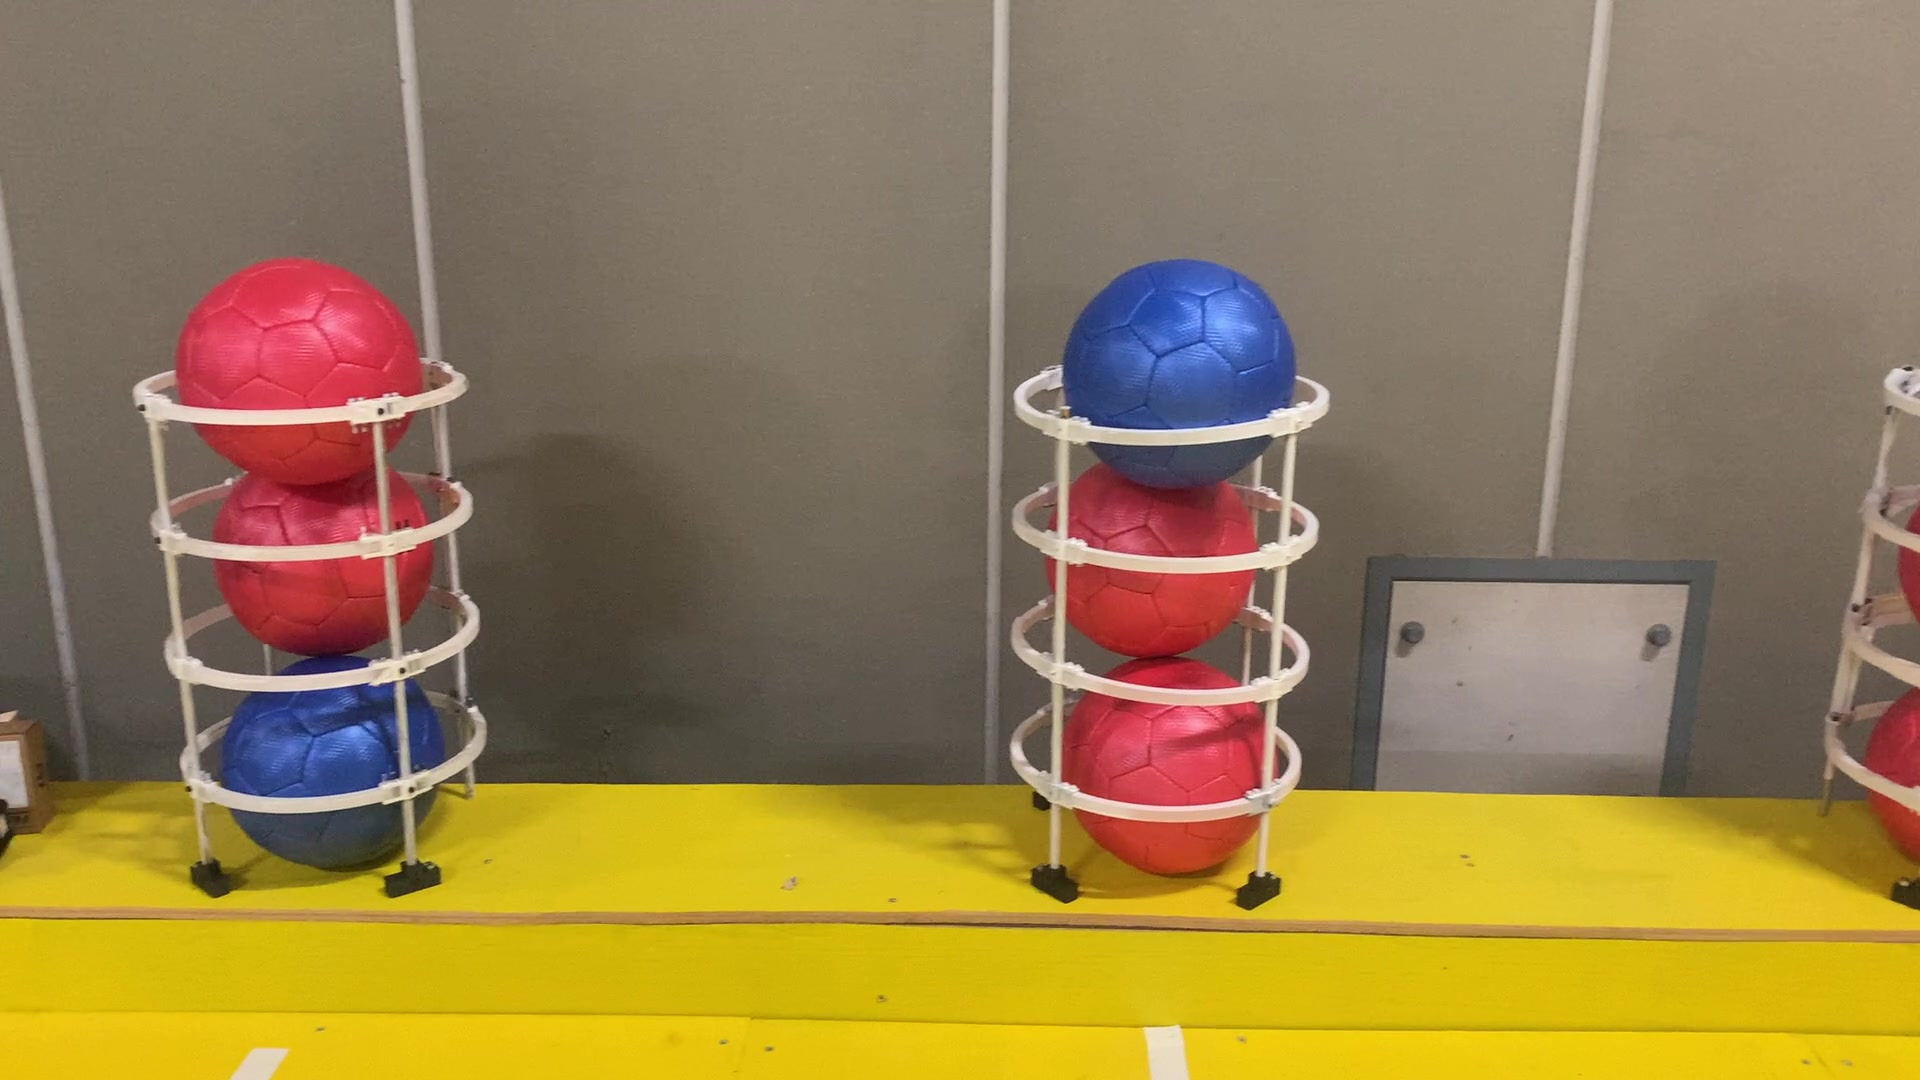blue: (1064, 261, 1302, 492), (216, 650, 446, 881)
red: (179, 257, 426, 480), (207, 448, 446, 659), (1063, 649, 1280, 869), (1047, 462, 1262, 659), (1867, 665, 1920, 877), (1895, 496, 1920, 642)
